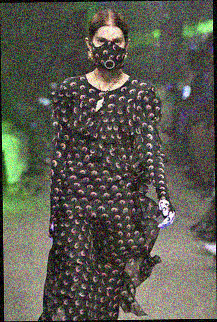with_mask: (89, 33, 126, 71)
